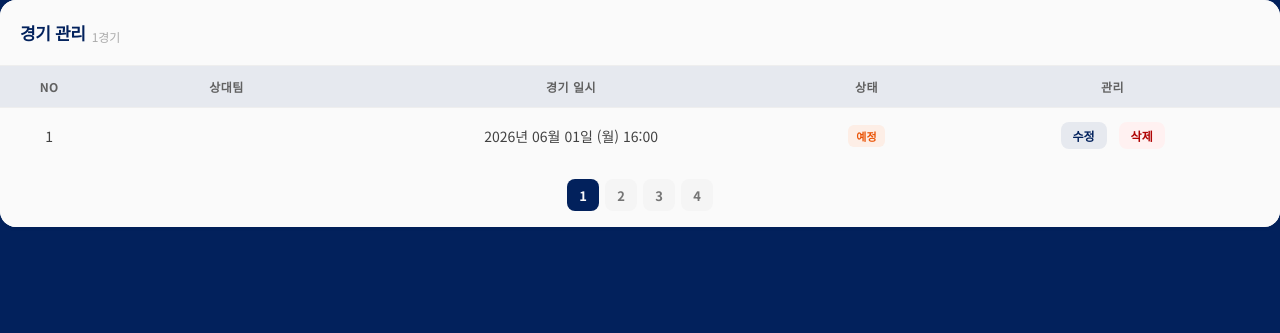
Test case: ManageGames › 취소 버튼 클릭 시 아코디언 패널이 닫힌다
The width and height of the screenshot is (1280, 333).
Step 1. Click the button "수정" → (1084, 136), box [1060,122,1107,149]
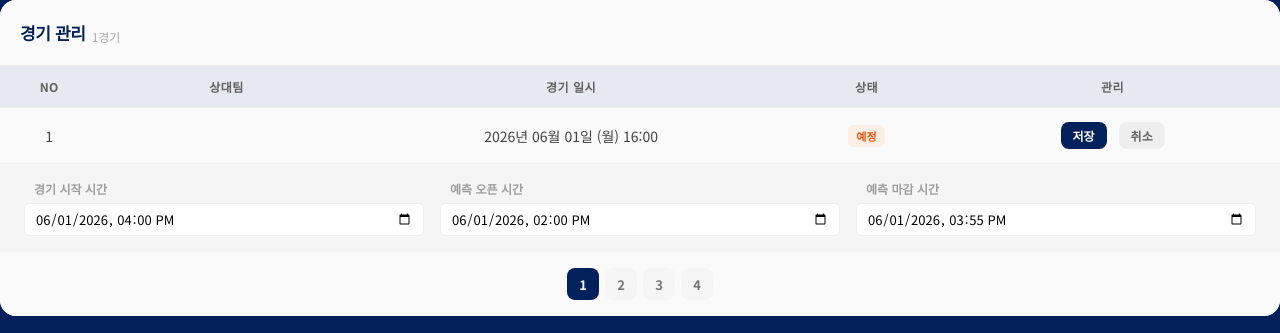
Step 2. Click the button "취소" → (1142, 136), box [1119,122,1165,149]
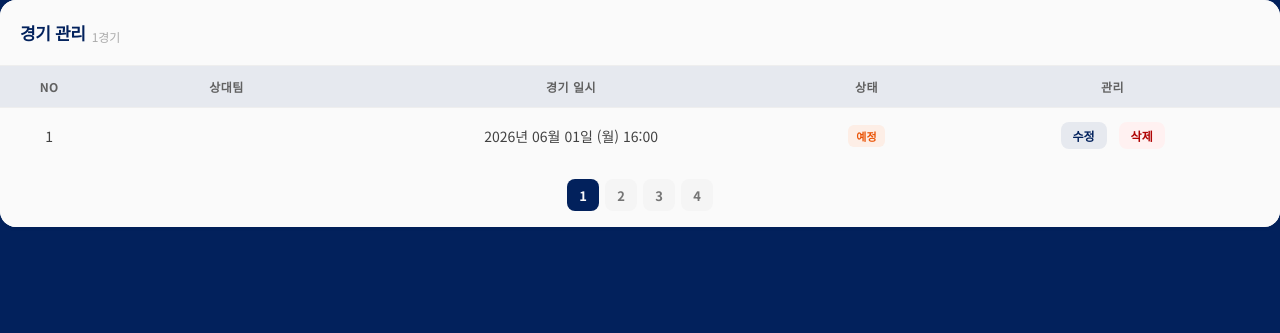
Check: the label labelled "경기 시작 시간" is gone
